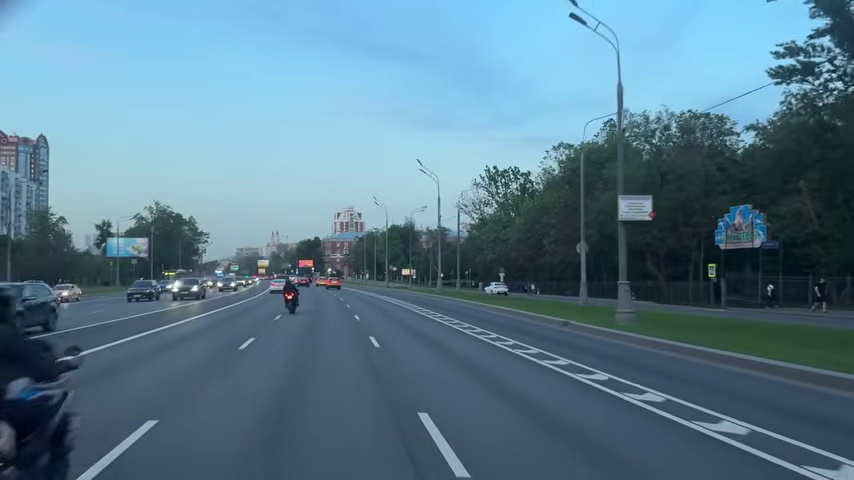apagada: (119, 416, 160, 456), (565, 10, 589, 30), (413, 159, 429, 179)
